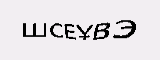В: (91, 21, 109, 41)
Е: (62, 21, 77, 41)
С: (48, 20, 62, 39)
Ш: (20, 19, 47, 39)
Э: (113, 17, 138, 42)
Ұ: (74, 21, 91, 41)
